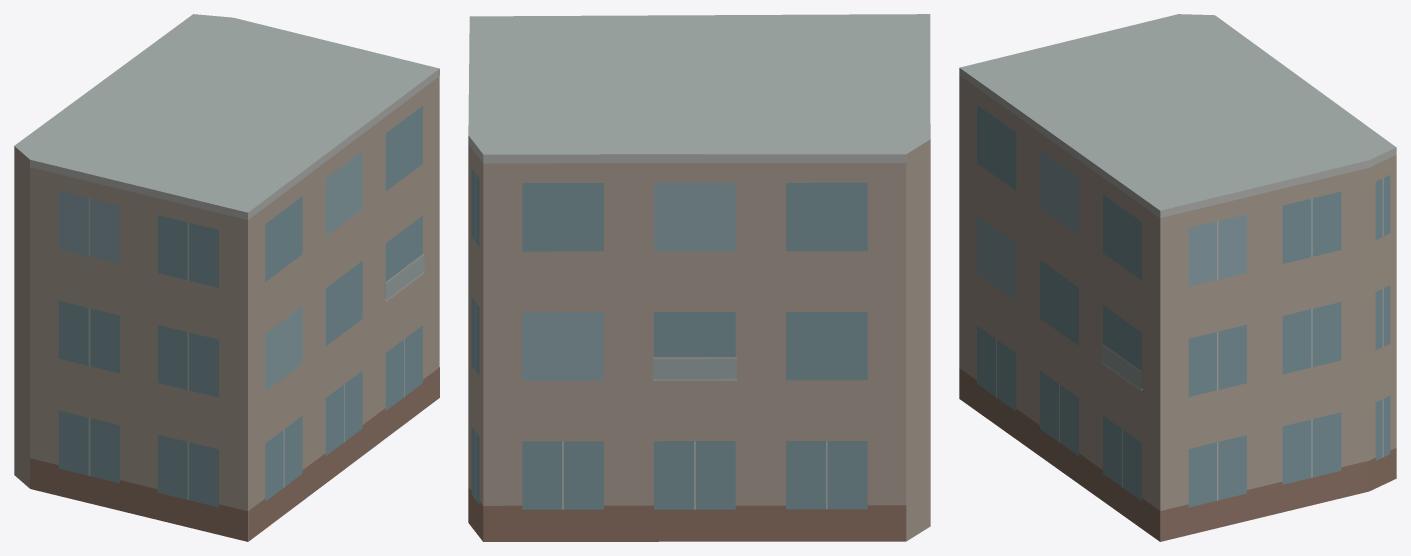
Rendered from survey-upis-32936856.glb.
3 renders of one model, left to right at view 1: azimuth 30°, elevation 25°; view 2: azimuth 150°, elevation 25°; view 3: azimuth 270°, elevation 25°, orthographic. The views are drawn at different scales.
Visible parts, largest first — view 1: survey-upis-32936856.tmp; view 2: survey-upis-32936856.tmp; view 3: survey-upis-32936856.tmp.
Boxes of the visible parts, x1,y1,x2,y2 form: survey-upis-32936856.tmp: (14, 14, 439, 541); survey-upis-32936856.tmp: (468, 14, 930, 541); survey-upis-32936856.tmp: (959, 14, 1396, 541).
Size of the model in its own units: 13.9 by 10.9 by 13.05.
